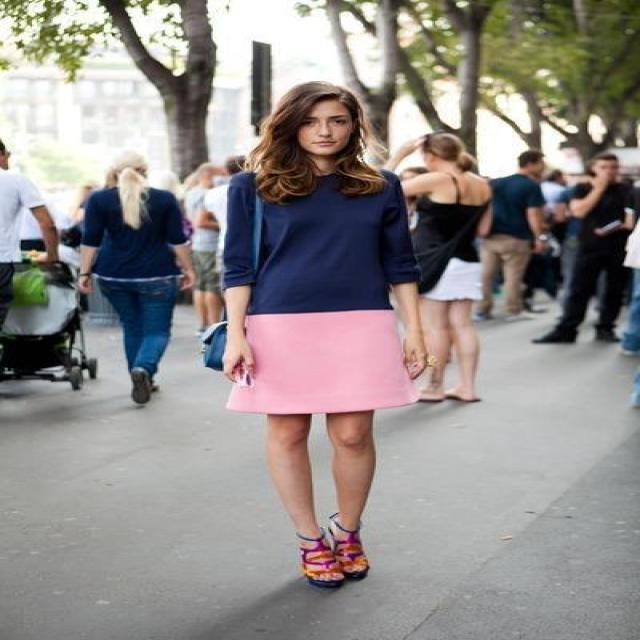shirt: (224, 166, 413, 315)
shoe: (301, 525, 366, 579)
skirt: (226, 310, 442, 422)
